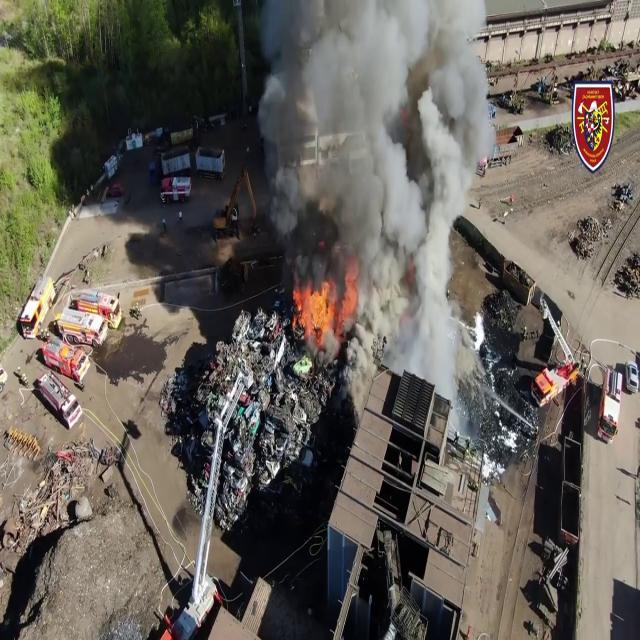Fire: (291, 273, 343, 347)
Smoke: (251, 0, 495, 400)
